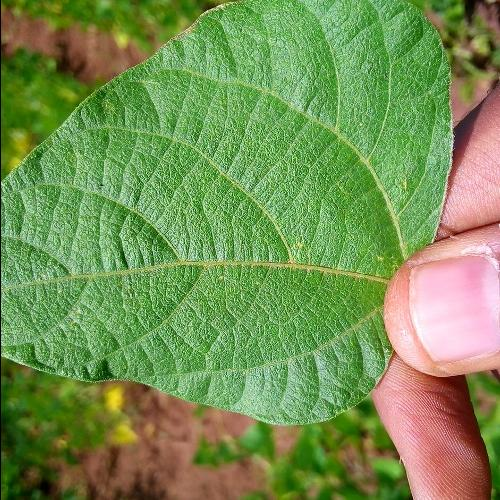mozaik: (101, 81, 367, 355)
